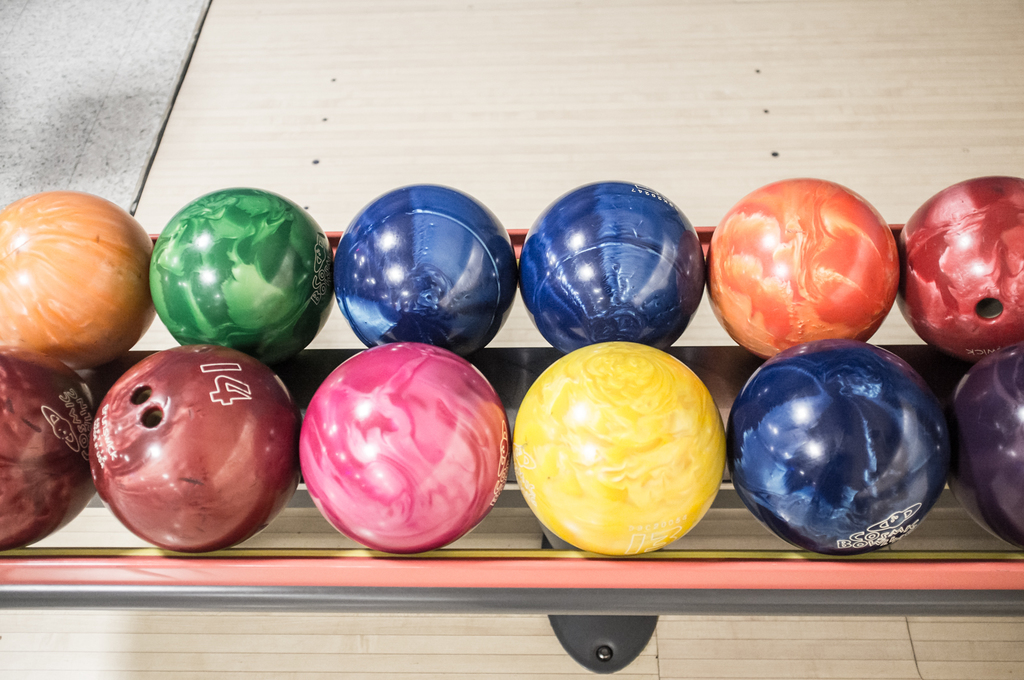Ball: (0, 170, 1023, 562)
